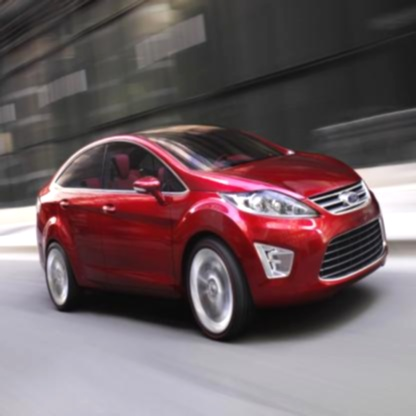Vehicle: (36, 123, 388, 343)
